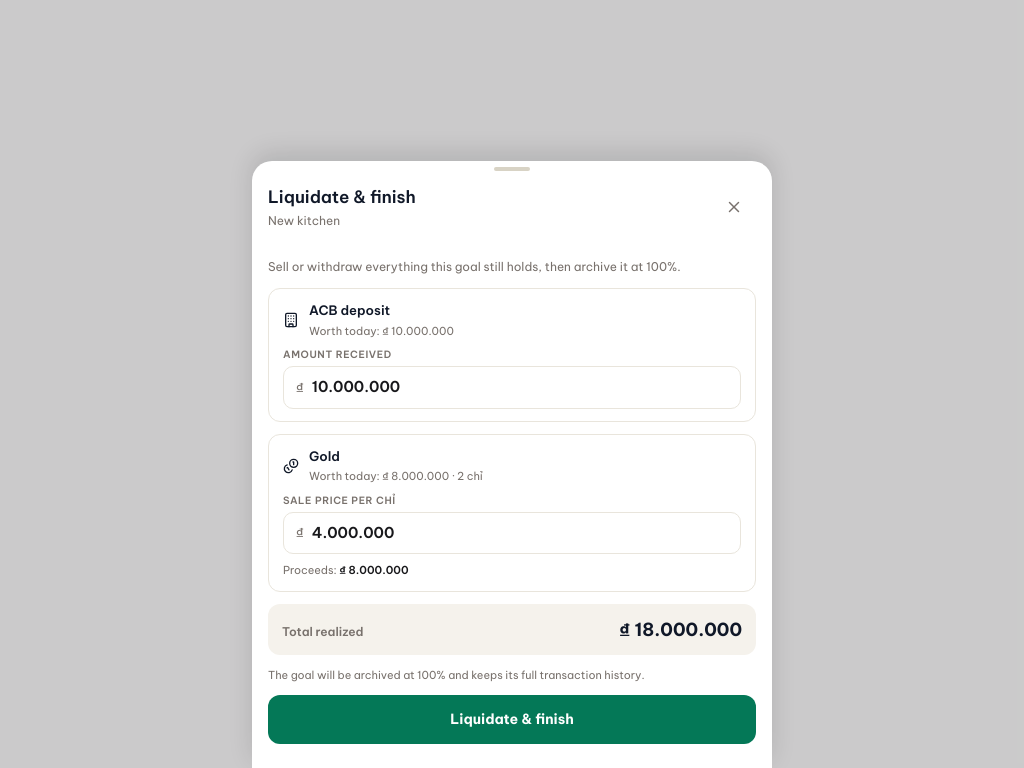
Scenario: FinishGoalSheet › reports a refusal instead of claiming the goal was finished
Click the button with test id "finish-goal-confirm" at {"x": 512, "y": 720}, box 268,695 -> 756,744
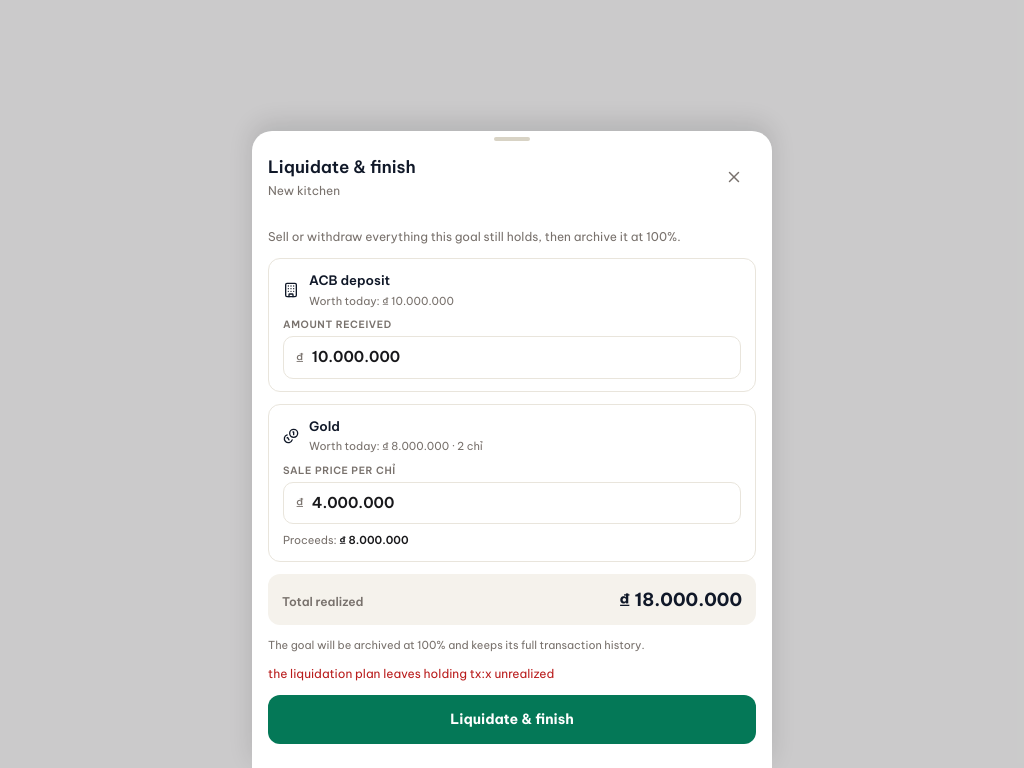
Result: the text "the liquidation plan leaves holding tx:x unrealized" is shown at 268,666 -> 554,681
